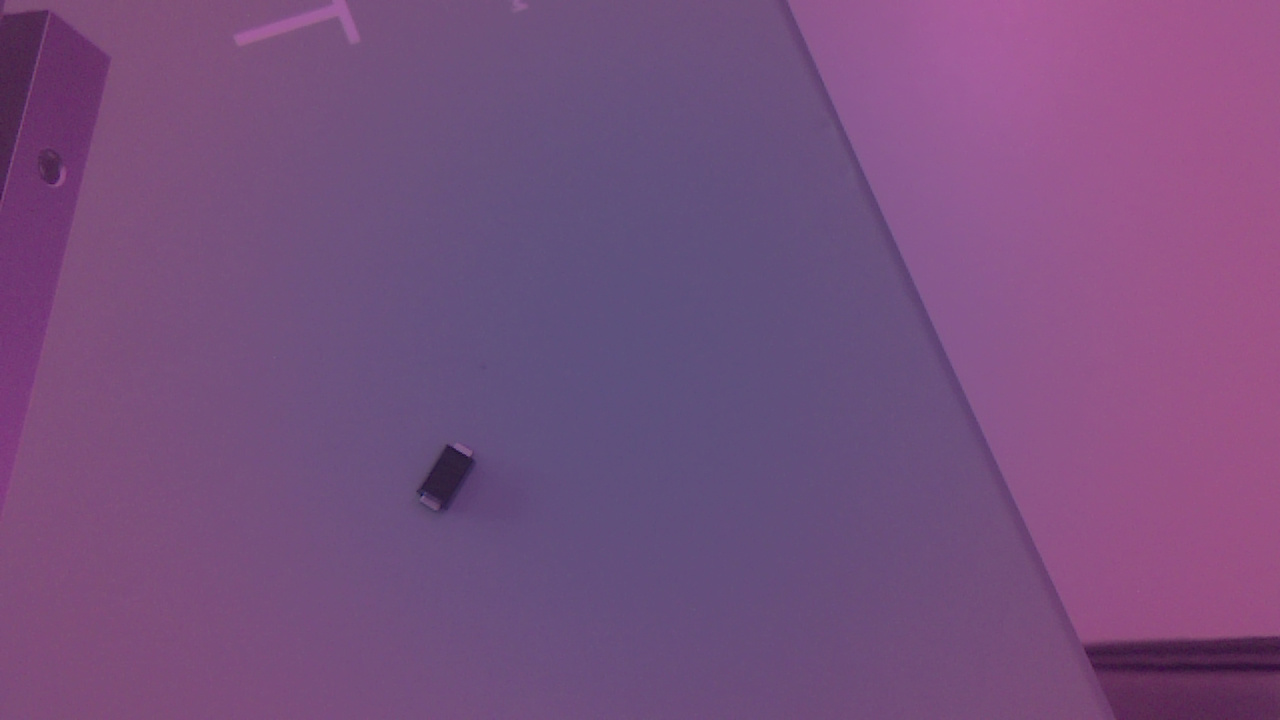Diode: (414, 436, 487, 522)
